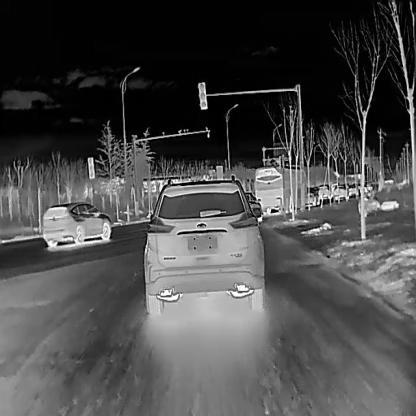car: (142, 175, 264, 314), (41, 201, 110, 247), (253, 165, 307, 214), (241, 191, 261, 220), (357, 195, 380, 216), (306, 186, 319, 205), (333, 185, 348, 201), (317, 184, 332, 199), (346, 182, 358, 196), (359, 184, 368, 193), (366, 181, 373, 190)
